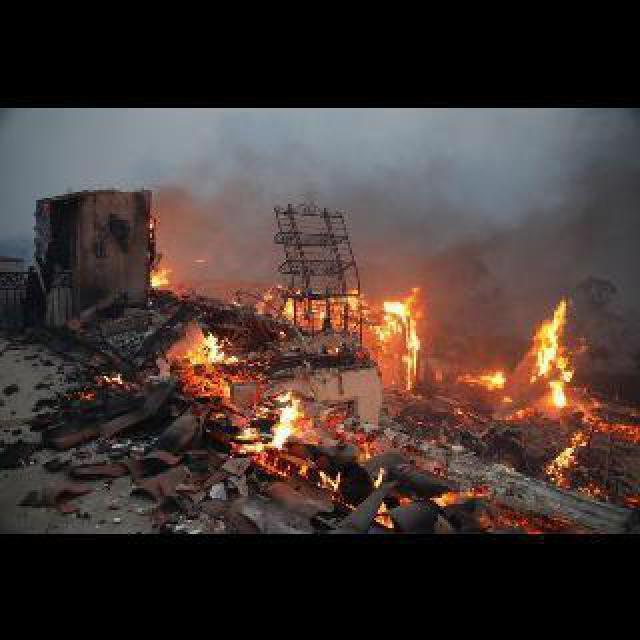Fire: (534, 298, 575, 376), (276, 402, 298, 446), (200, 332, 222, 362), (386, 300, 410, 319)
Smoke: (434, 236, 524, 338), (568, 176, 630, 263)
